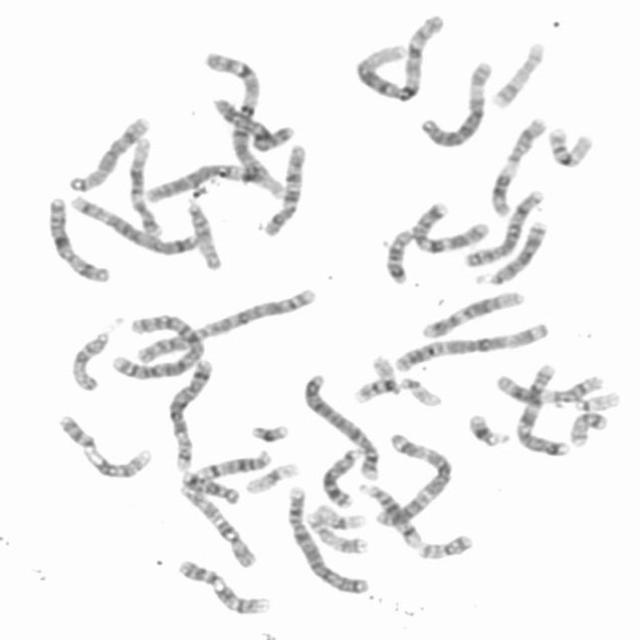A1: (200, 50, 288, 201), (354, 11, 446, 102)
A2: (134, 287, 320, 366), (111, 314, 205, 380)
A3: (393, 321, 548, 375), (374, 434, 453, 528)
B4: (284, 485, 372, 595), (302, 373, 381, 482)
B5: (68, 193, 200, 255), (167, 358, 214, 470)
C10: (179, 484, 258, 570), (264, 142, 308, 238)
C11: (488, 114, 549, 218), (493, 372, 605, 405)
C12: (420, 289, 525, 340), (128, 135, 164, 239)
C6: (418, 60, 493, 149), (145, 161, 251, 205)
C7: (513, 364, 571, 458), (410, 201, 491, 256)
C8: (463, 188, 545, 269), (68, 116, 153, 194)
C9: (56, 411, 154, 480), (175, 558, 273, 616)
D13: (472, 220, 549, 286), (318, 446, 367, 510)
D14: (358, 482, 426, 549), (195, 449, 273, 482)
D15: (70, 314, 127, 392), (187, 197, 223, 270)
E16: (353, 354, 398, 406), (546, 124, 596, 168)
E17: (489, 40, 547, 112), (305, 512, 370, 557)
E18: (181, 469, 241, 505), (385, 228, 415, 287)
F19: (245, 462, 300, 496), (316, 502, 368, 531)
F20: (568, 410, 609, 449), (419, 533, 473, 560)
G21: (464, 412, 512, 448), (250, 422, 290, 444)
G22: (392, 376, 444, 408), (574, 389, 622, 414)
X: (47, 196, 112, 286), (213, 95, 295, 154)
